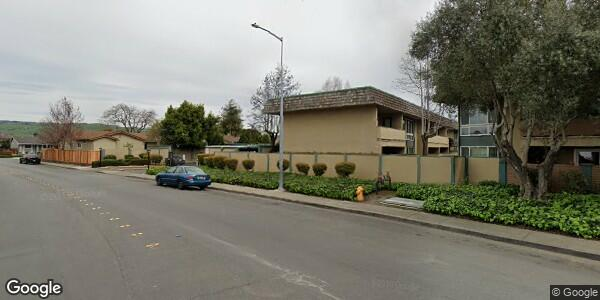Steel_Pole: (249, 21, 286, 192)
